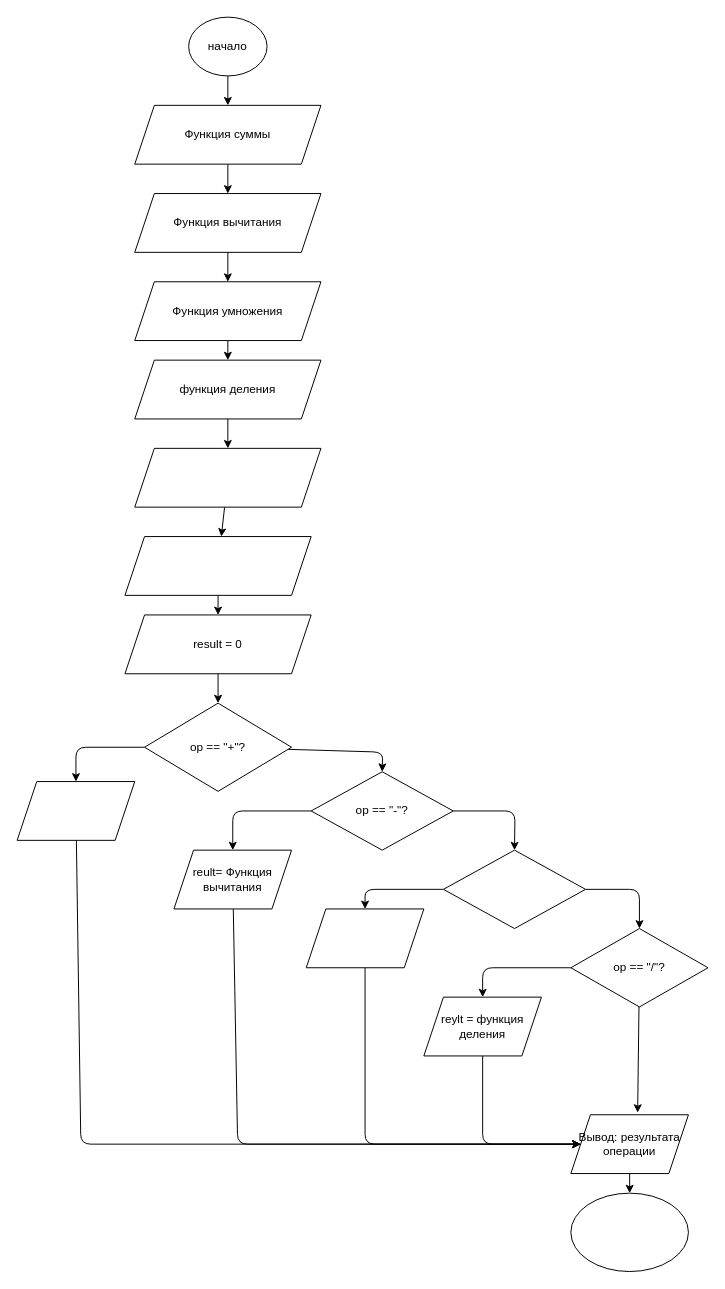
This 725x1289 diagram has some shape labels left out. Here are the shapes that lost their labels. From the top down, the centre of each, then its label:
(227,477): n1, n2 = ввод чисел для операции
(217,565): op = ввод операции
(75,810): result= Функция сложения
(514,889): op == "*"?
(364,938): retusl = Функция умножения
(629,1232): Конец
